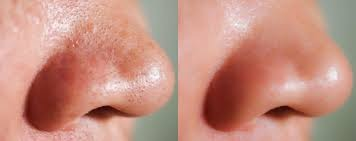Melasma: (49, 11, 162, 103)
